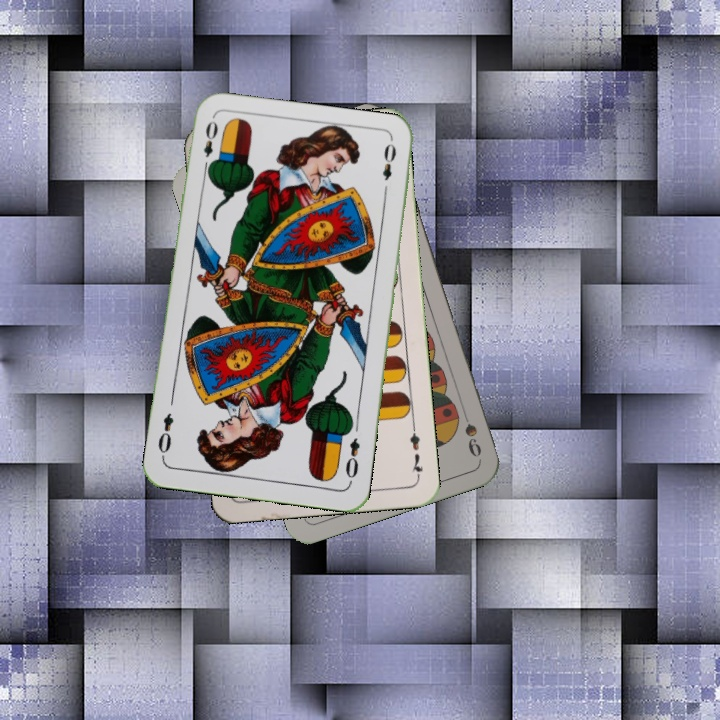E7: (405, 422, 426, 481)
EO: (199, 116, 220, 175), (341, 434, 363, 486)
S9: (457, 402, 484, 460)
